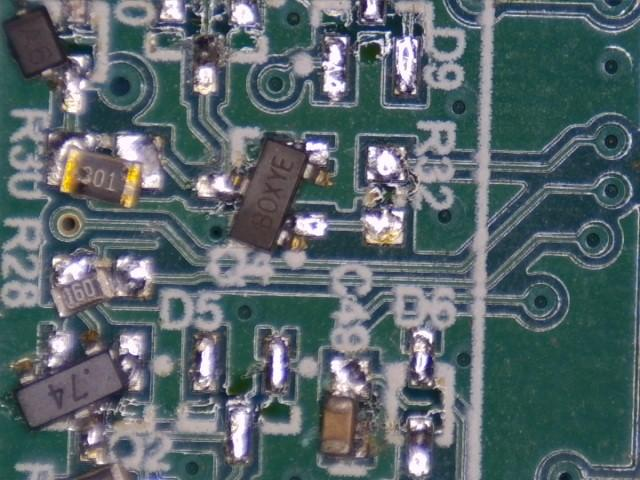Incorrect_installation: (13, 330, 145, 464), (199, 138, 331, 255), (2, 1, 87, 113), (47, 132, 161, 211), (51, 254, 151, 319), (319, 358, 372, 459)
